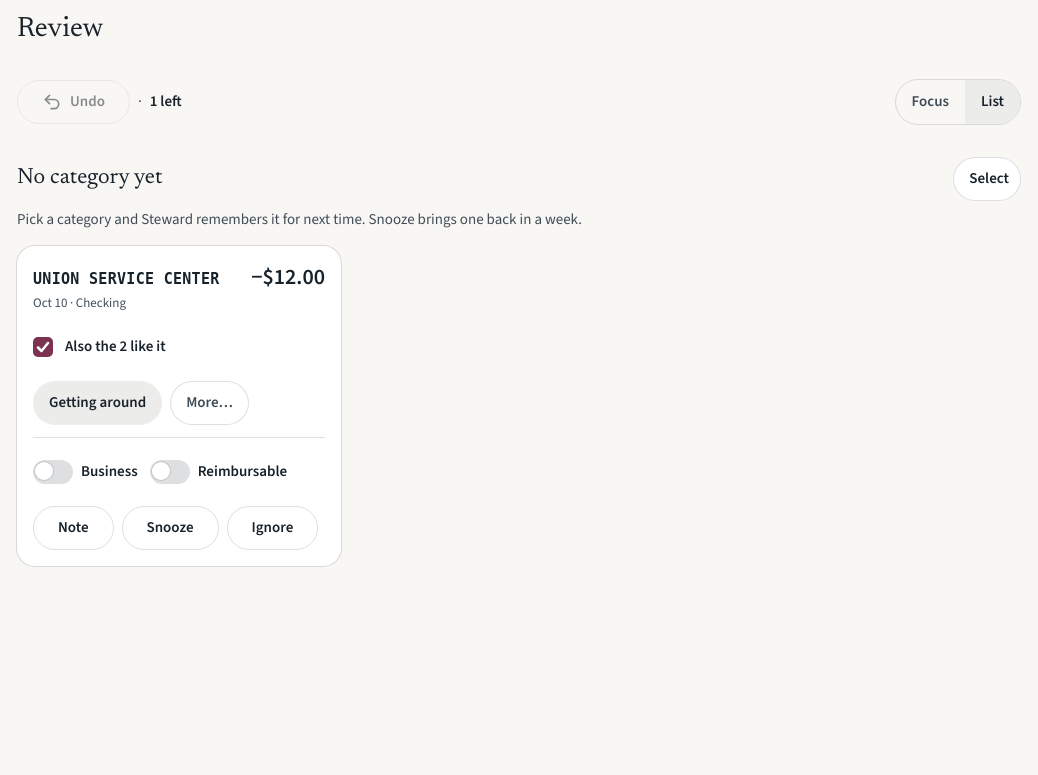
Test: Review celebrates (sorting redesign, Celebrations; review focus P18, P19) › the last card going brings All caught up!, how many were sorted today, and the sunrise once
The image size is (1038, 775).
Click the button "Getting around" at (98, 403), box [33,381,162,425]
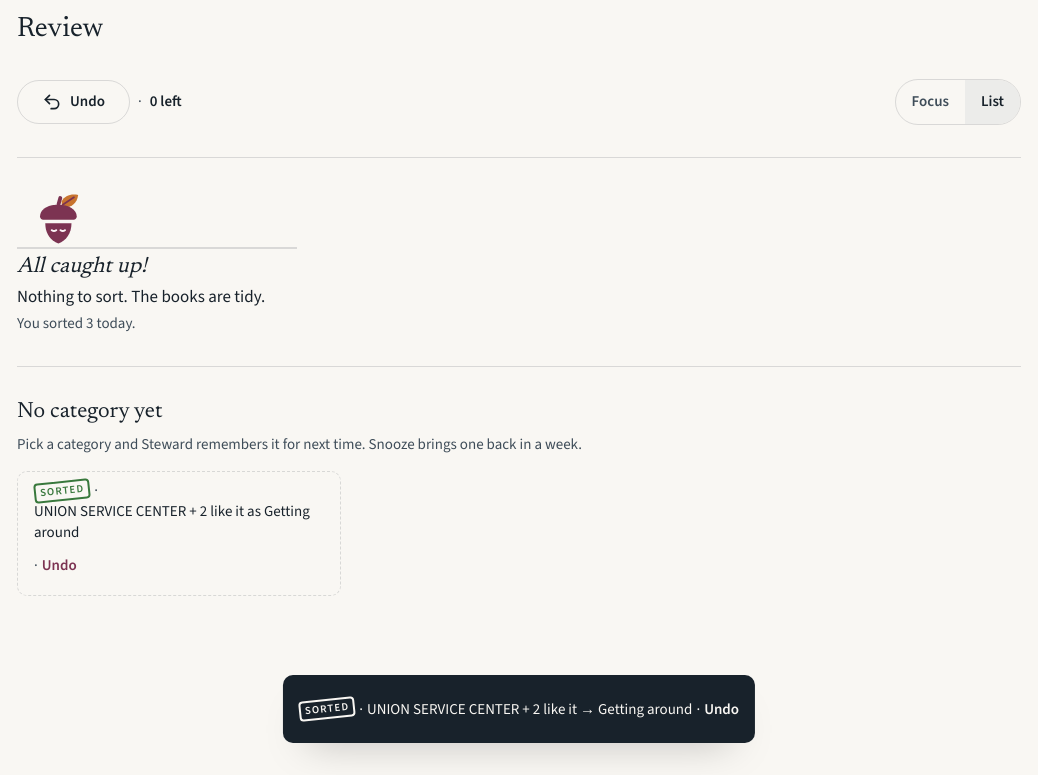
Expected: the text "All caught up!" is shown, [17,256,147,278]
Expected: the text "You sorted 3 today." is shown, [17,313,136,333]
